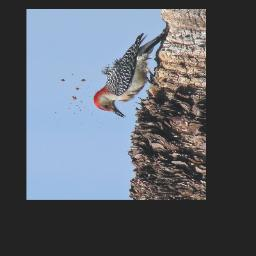Woodpecker: (92, 28, 171, 118)
